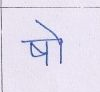o_matra: (49, 27, 67, 64)
